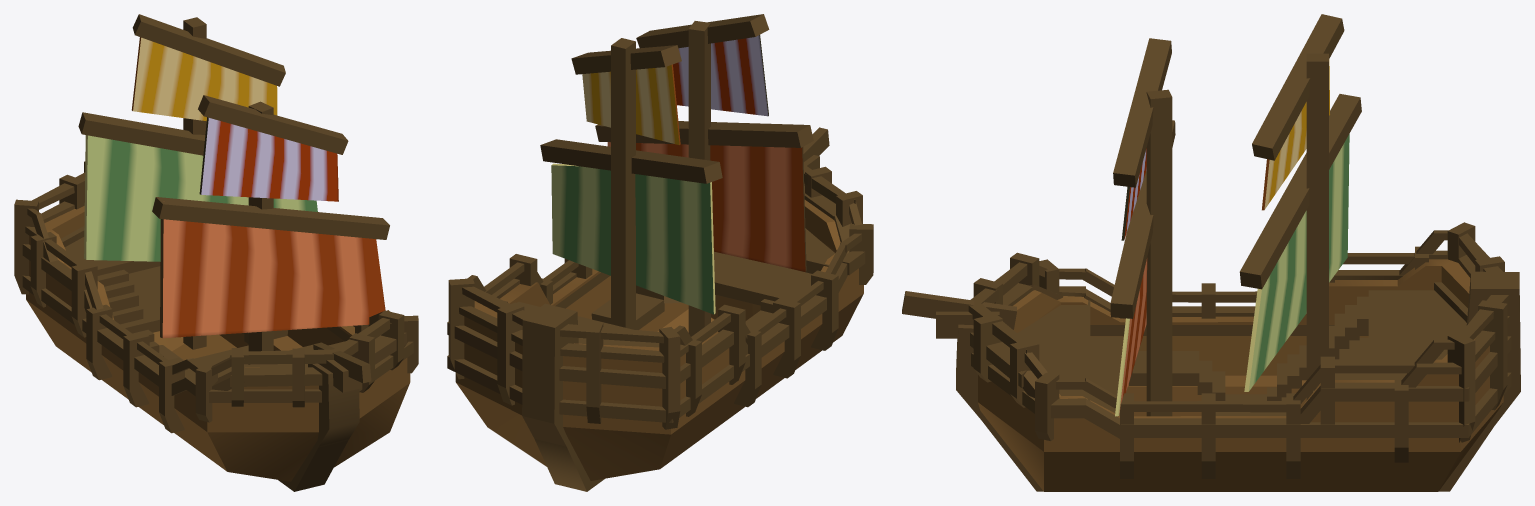
The model's file is merchantship.fbx.
The picture shows the model from 3 angles, left to right: view 1: azimuth 30°, elevation 25°; view 2: azimuth 150°, elevation 25°; view 3: azimuth 270°, elevation 25°; orthographic projection. The views are drawn at different scales.
Visible parts, largest first — view 1: polySurface634; view 2: polySurface634; view 3: polySurface634.
Boxes of the visible parts, box(x1,y1,x2,y2) form: polySurface634: box(14, 14, 418, 491); polySurface634: box(447, 14, 873, 491); polySurface634: box(902, 14, 1520, 491).
Size of the model in its own units: 133 by 218 by 275.
Materials: 1 (1 with a texture image).
